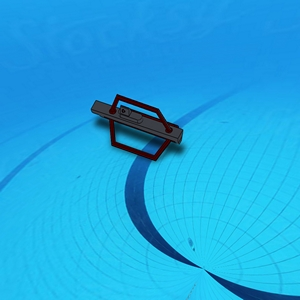submarine: (89, 94, 183, 160)
